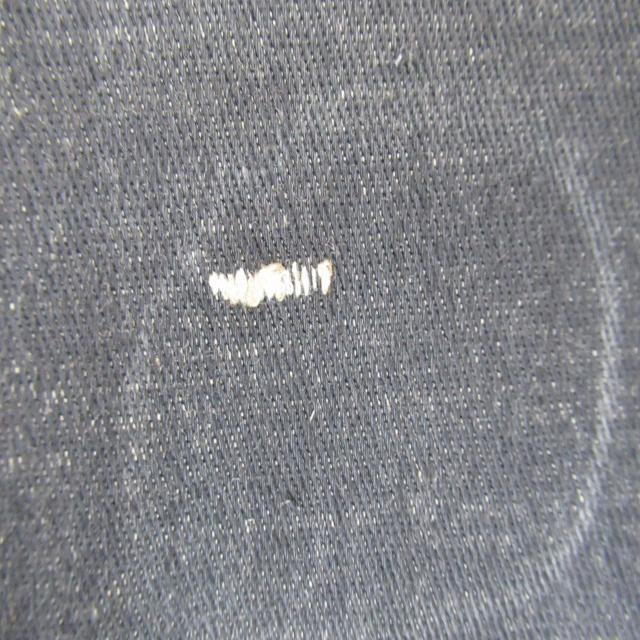pulled_or_thick_thread: (208, 256, 335, 309)
